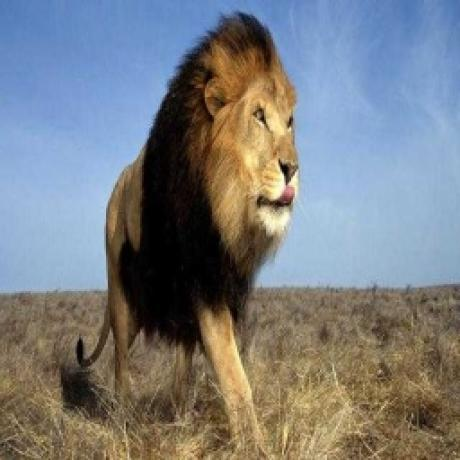Lion: (74, 4, 306, 437)
